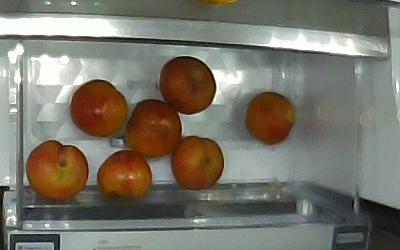prune: (26, 139, 89, 203), (158, 55, 216, 115), (124, 99, 182, 157), (70, 80, 127, 137), (171, 136, 224, 189), (243, 92, 295, 145), (97, 150, 152, 199)
